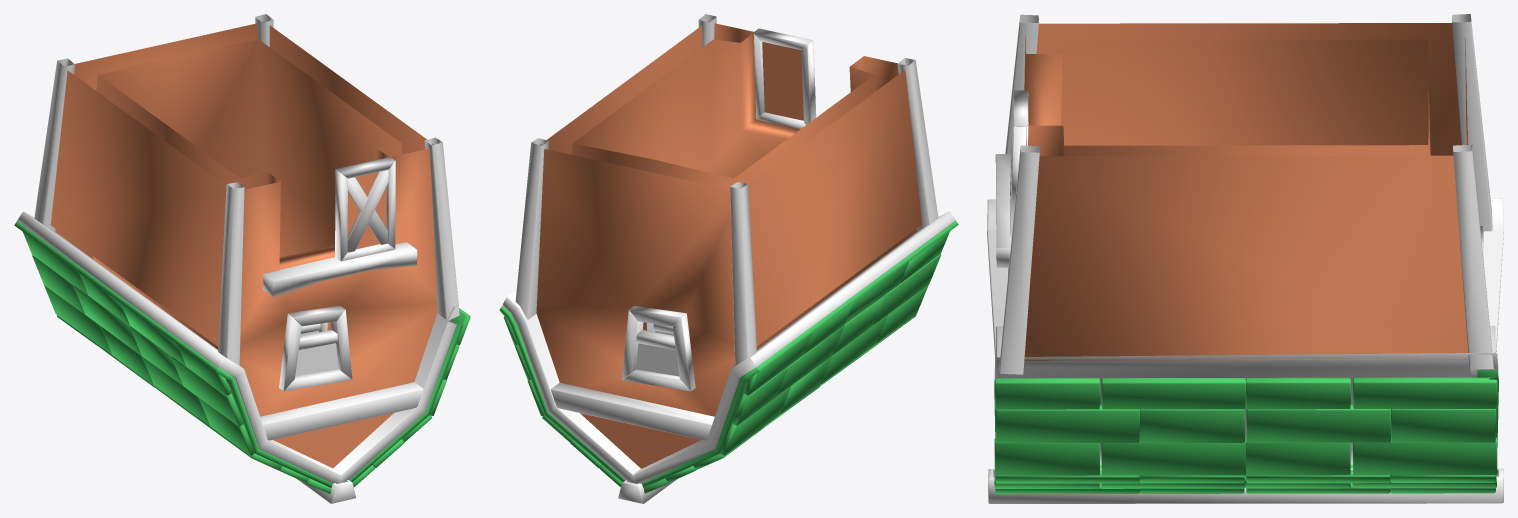
The model's file is Barn_Player.fbx.
3 views of the same model, side by side, from view 1: azimuth 30°, elevation 25°; view 2: azimuth 150°, elevation 25°; view 3: azimuth 270°, elevation 25° (orthographic). The views are drawn at different scales.
Visible parts, largest first — view 1: Barn9; view 2: Barn9; view 3: Barn9.
Part boxes in pixels (<box>): Barn9: <box>14,14,470,503</box>; Barn9: <box>499,14,958,503</box>; Barn9: <box>987,14,1503,503</box>.
Size of the model in its own units: 547 by 654 by 728.
